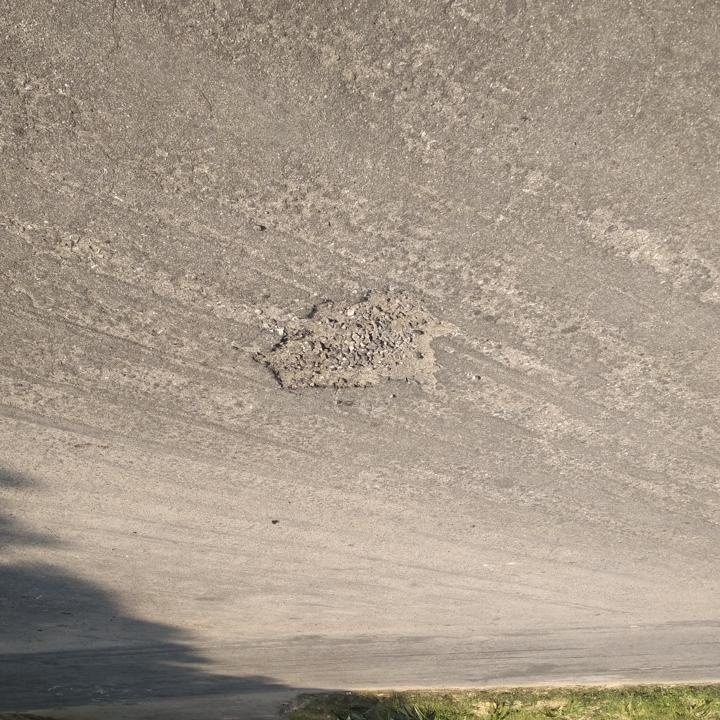pothole: (248, 287, 462, 399)
